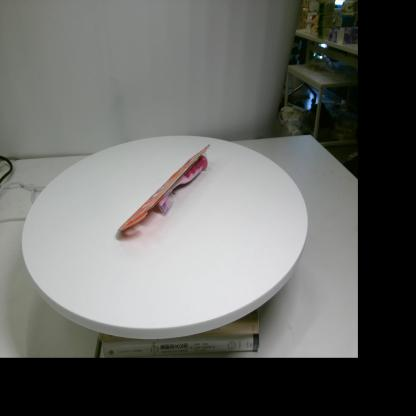Personal Hygiene: (117, 144, 211, 231)
